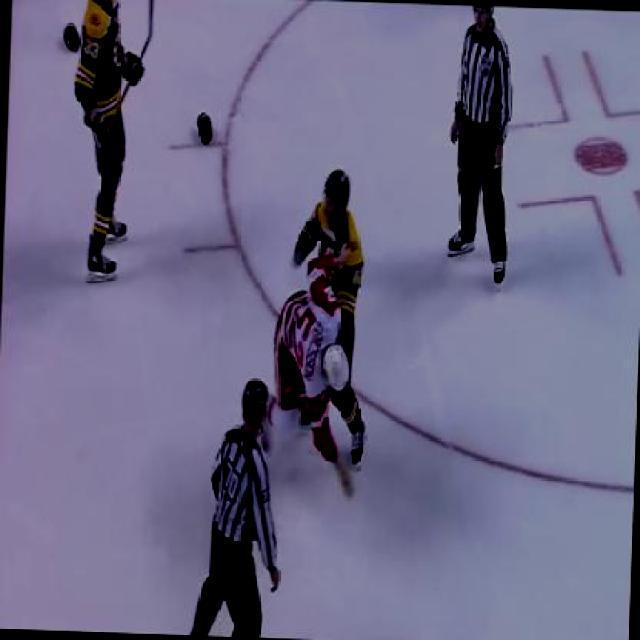fight: (266, 167, 376, 486)
non-fight: (188, 377, 287, 637), (64, 0, 152, 288), (440, 4, 520, 290)
